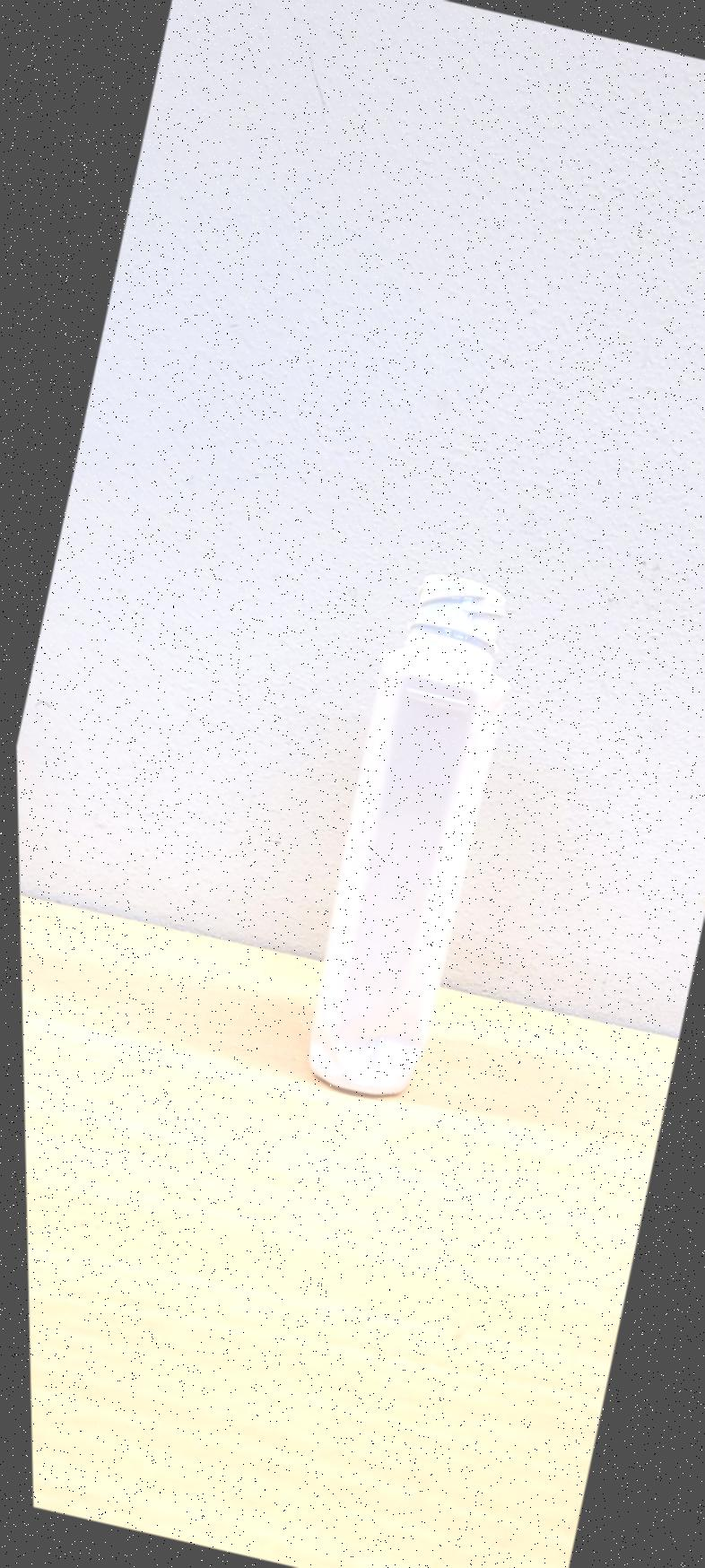bottle: (309, 574, 509, 1096)
